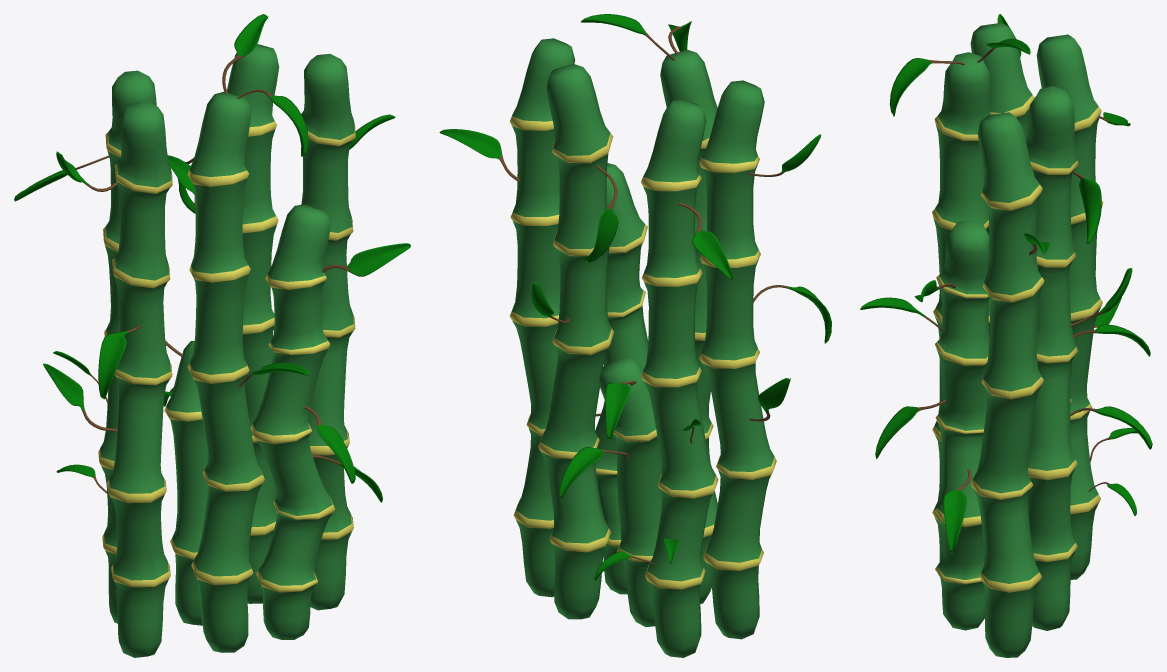
The model's file is Bamboo_Croissance_3.fbx.
3 views of the same model, side by side, from view 1: azimuth 30°, elevation 25°; view 2: azimuth 150°, elevation 25°; view 3: azimuth 270°, elevation 25° (orthographic). The views are drawn at different scales.
Parts seen in each view (by area): view 1: Plane.001, Plane.003, Plane.010, Plane.011, Plane.006, Plane.002, Plane.008; view 2: Plane.001, Plane.019, Plane.015, Plane.014, Plane.009, Plane.007, Plane.006, Plane.011, Plane.010, Plane.012; view 3: Plane.001, Plane, Plane.014, Plane.008, Plane.002, Plane.009, Plane.004, Plane.007, Plane.013.
Boxes of the visible parts, x1,y1,x2,y2 form: Plane.001: [98, 44, 355, 657]; Plane.003: [322, 243, 410, 276]; Plane.010: [98, 325, 140, 399]; Plane.011: [43, 363, 117, 432]; Plane.006: [222, 14, 268, 93]; Plane.002: [304, 406, 355, 483]; Plane.008: [236, 89, 308, 156]; Plane.001: [510, 38, 776, 657]; Plane.019: [439, 129, 519, 182]; Plane.015: [678, 202, 732, 279]; Plane.014: [583, 164, 618, 262]; Plane.009: [559, 447, 630, 499]; Plane.007: [605, 381, 636, 439]; Plane.006: [581, 14, 674, 60]; Plane.011: [749, 378, 790, 421]; Plane.010: [753, 285, 831, 343]; Plane.012: [748, 134, 821, 176]; Plane.001: [932, 22, 1103, 657]; Plane: [943, 469, 971, 552]; Plane.014: [1073, 171, 1101, 244]; Plane.008: [889, 58, 964, 116]; Plane.002: [875, 400, 945, 458]; Plane.009: [1070, 406, 1152, 449]; Plane.004: [860, 297, 942, 331]; Plane.007: [1073, 324, 1150, 356]; Plane.013: [1069, 268, 1132, 326].
Bounding box in the file's own units: 193 × 305 × 138.
